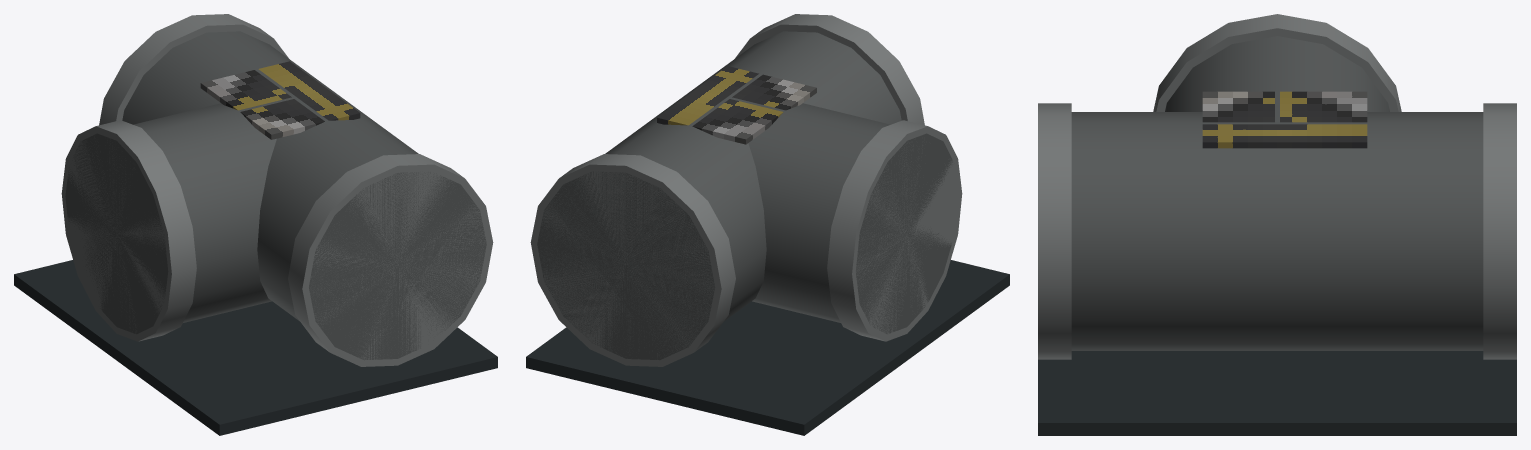
File: CMU3DReduxDisposalRouter.glb
The picture shows the model from 3 angles, left to right: view 1: azimuth 30°, elevation 25°; view 2: azimuth 150°, elevation 25°; view 3: azimuth 270°, elevation 25°; orthographic projection. The views are drawn at different scales.
Visible parts, largest first — view 1: round S barrel, round W barrel, finite channel bottom, S coupling, W coupling, round N barrel, source routing plate, N coupling; view 2: round N barrel, round W barrel, finite channel bottom, N coupling, W coupling, round S barrel, source routing plate, S coupling; view 3: round S barrel, round N barrel, finite channel bottom, round W barrel, source routing plate, N coupling, S coupling, W coupling.
Part boxes in pixels (x1,y1,x2,y2): round S barrel: (257, 97, 486, 360); round W barrel: (65, 97, 294, 334); finite channel bottom: (14, 260, 497, 435); S coupling: (288, 154, 493, 366); W coupling: (61, 120, 196, 341); round N barrel: (122, 31, 356, 124); source routing plate: (200, 61, 360, 139); N coupling: (99, 14, 288, 125); round N barrel: (537, 97, 766, 360); round W barrel: (729, 97, 952, 334); finite channel bottom: (526, 260, 1009, 435); N coupling: (530, 154, 735, 366); W coupling: (827, 120, 962, 341); round S barrel: (667, 31, 901, 124); source routing plate: (657, 66, 816, 144); S coupling: (735, 14, 924, 125); round S barrel: (1071, 112, 1277, 350); round N barrel: (1277, 112, 1483, 350); finite channel bottom: (1038, 351, 1516, 435); round W barrel: (1165, 36, 1389, 122); source routing plate: (1202, 91, 1367, 148); N coupling: (1483, 103, 1516, 359); S coupling: (1038, 103, 1071, 359); W coupling: (1153, 14, 1401, 111).
Size of the model in its own units: 0.7812 by 0.608 by 1.
Materials: 5 (1 with a texture image).
